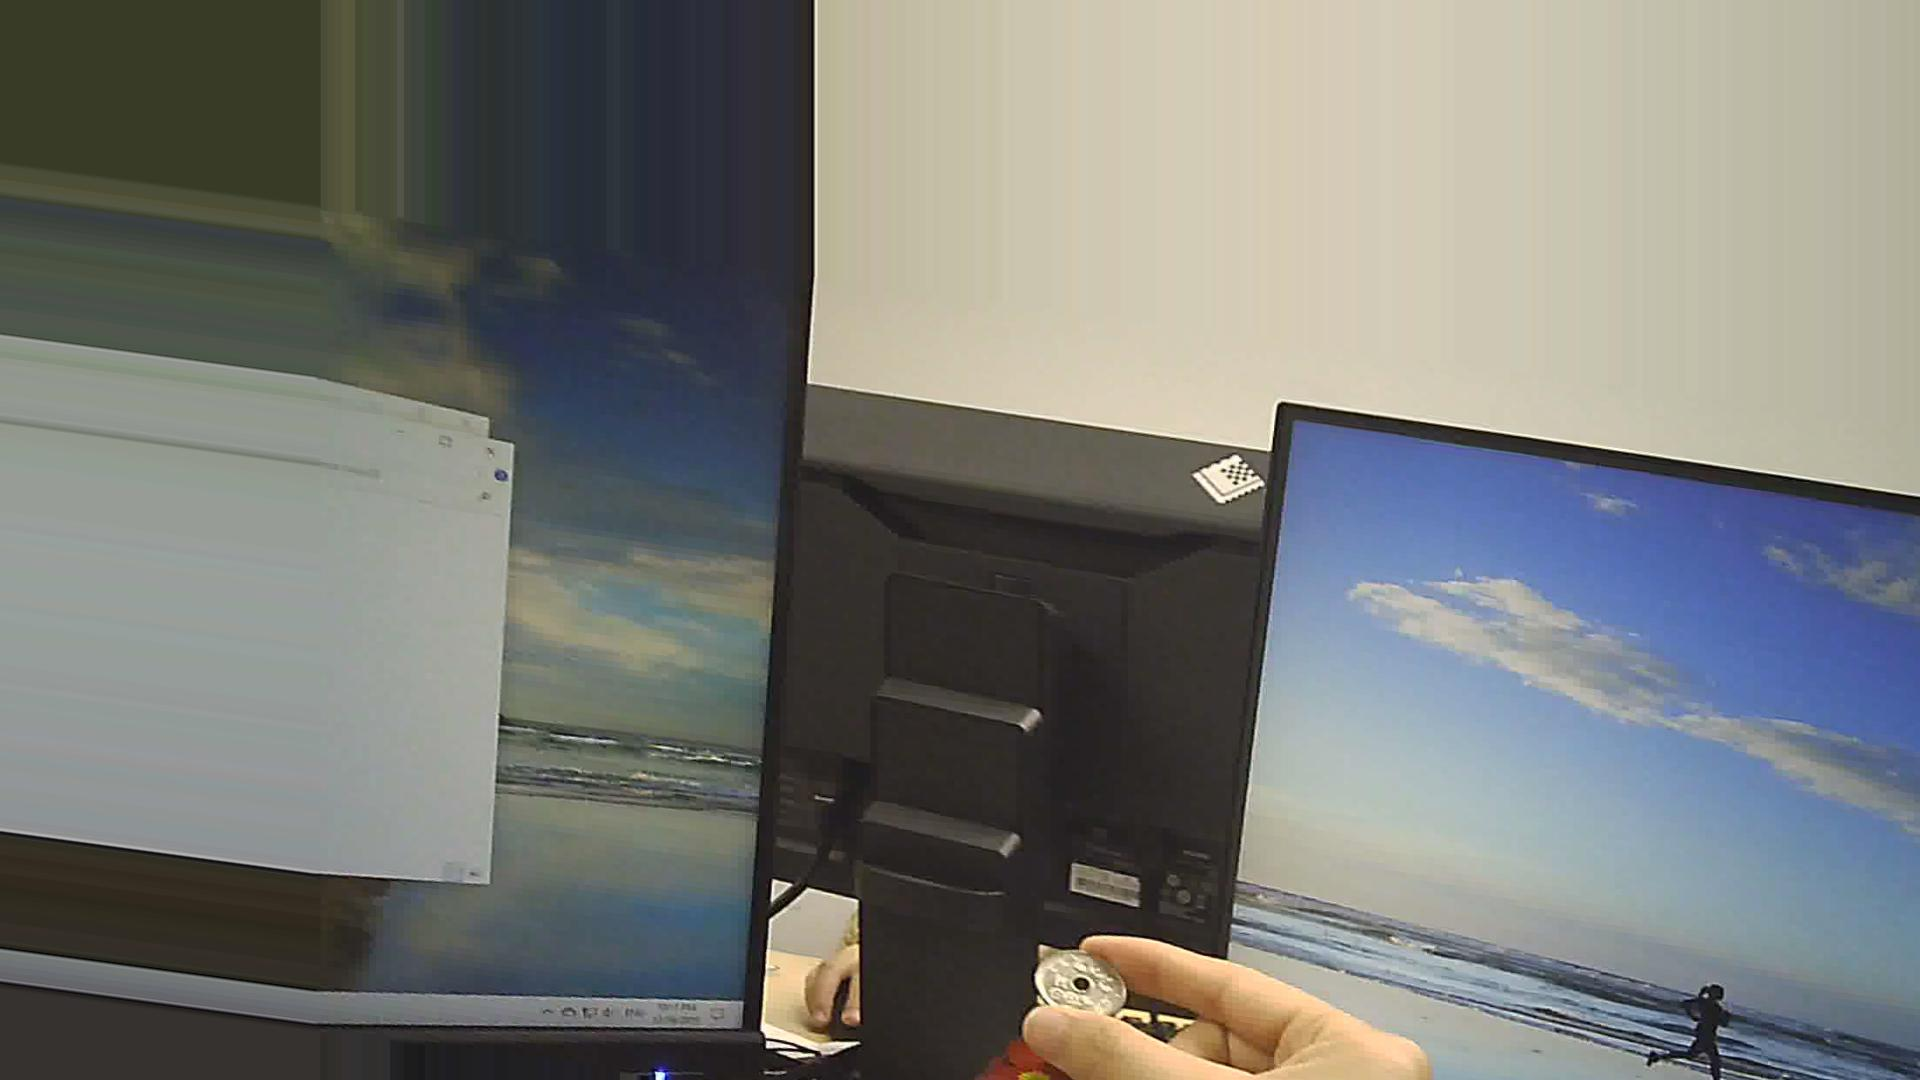50 Yen: (1033, 940, 1125, 1014)
